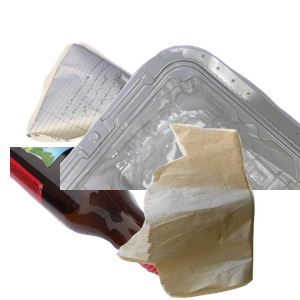glass: (10, 147, 207, 300)
paper: (23, 40, 223, 180)
plastic: (60, 43, 300, 223)
trash: (114, 121, 300, 300)
